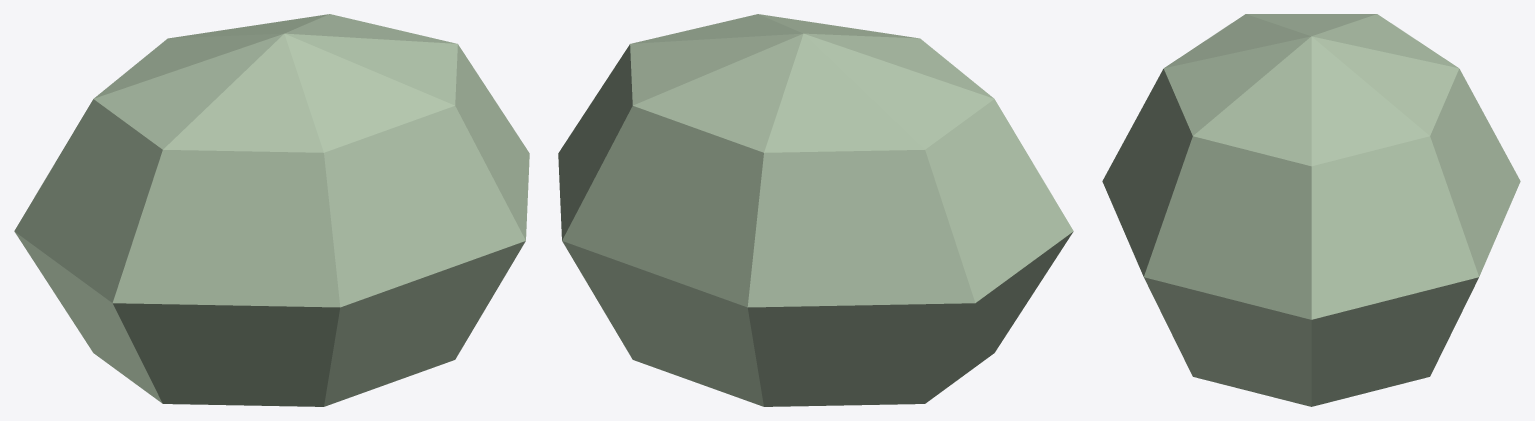
The model's file is moss_rock.glb.
3 views of the same model, side by side, from view 1: azimuth 30°, elevation 25°; view 2: azimuth 150°, elevation 25°; view 3: azimuth 270°, elevation 25° (orthographic). The views are drawn at different scales.
Visible parts, largest first — view 1: rock; view 2: rock; view 3: rock.
Part boxes in pixels (x1,y1,x2,y2): rock: (14, 14, 529, 406); rock: (558, 14, 1073, 406); rock: (1102, 14, 1520, 406).
Bounding box in the file's own units: 1.9 × 1.4 × 1.56.
